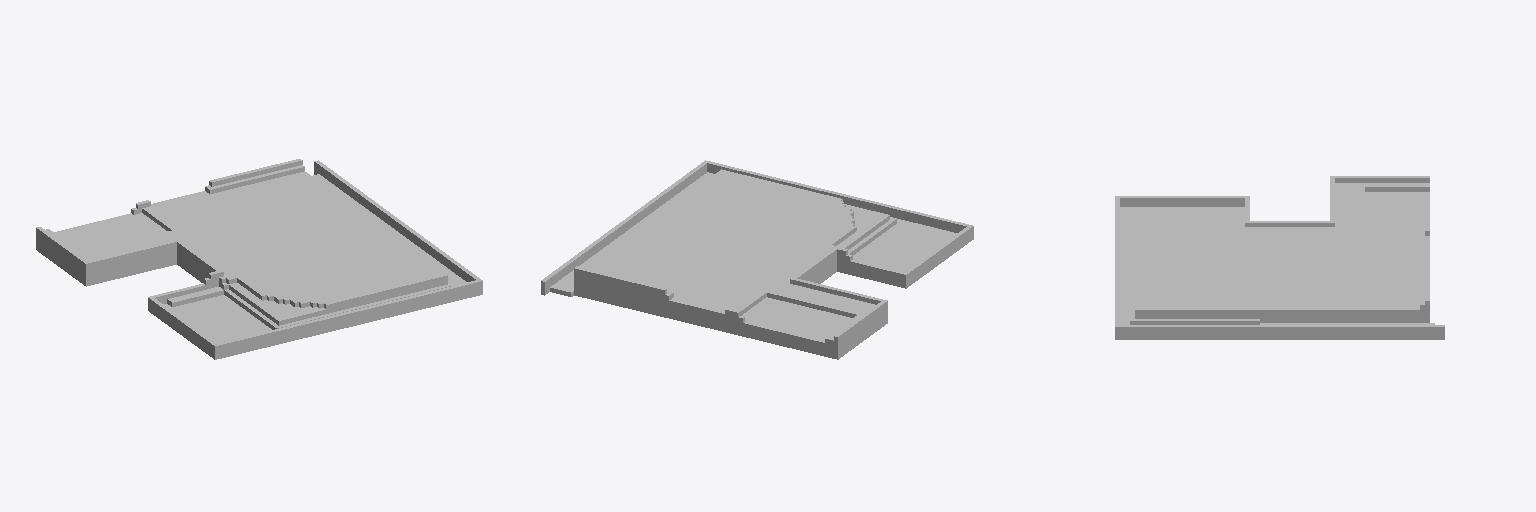
File: faccat terreno de tras.obj
The picture shows the model from 3 angles: view 1: azimuth 30°, elevation 25°; view 2: azimuth 150°, elevation 25°; view 3: azimuth 270°, elevation 25°; orthographic projection.
Visible parts, largest first — view 1: object 1; view 2: object 1; view 3: object 1.
Part boxes in pixels (x1,y1,x2,y2): object 1: (36, 159, 482, 359); object 1: (541, 160, 973, 359); object 1: (1115, 176, 1444, 339).
Size of the model in its own units: 6.7 by 0.6 by 6.6.